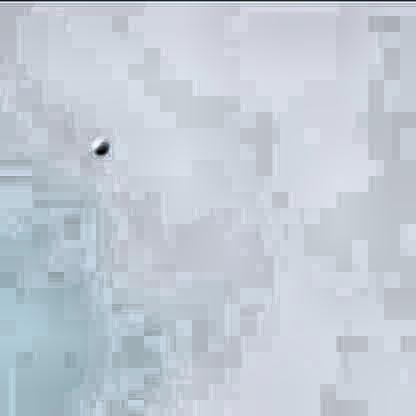golfball: (90, 134, 108, 153)
